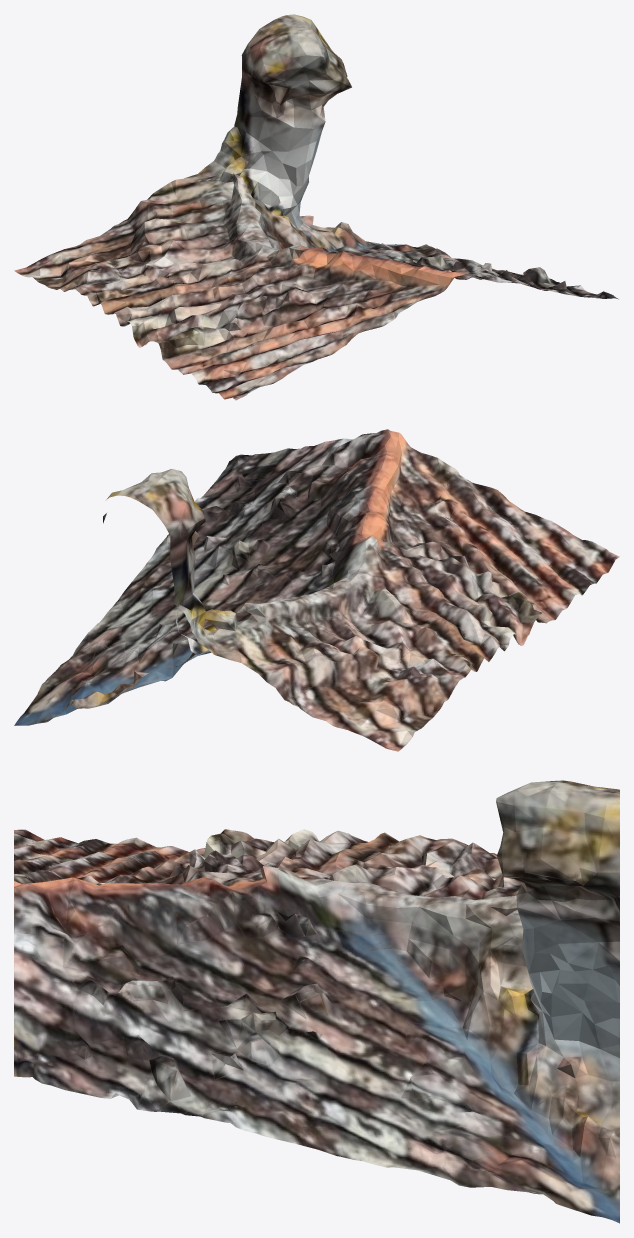
3 renders of one model, top to bottom at view 1: azimuth 30°, elevation 25°; view 2: azimuth 150°, elevation 25°; view 3: azimuth 270°, elevation 25°, orthographic. The views are drawn at different scales.
Size of the model in its own units: 3.35 by 2.18 by 3.35.
3 materials, 3 textured.
